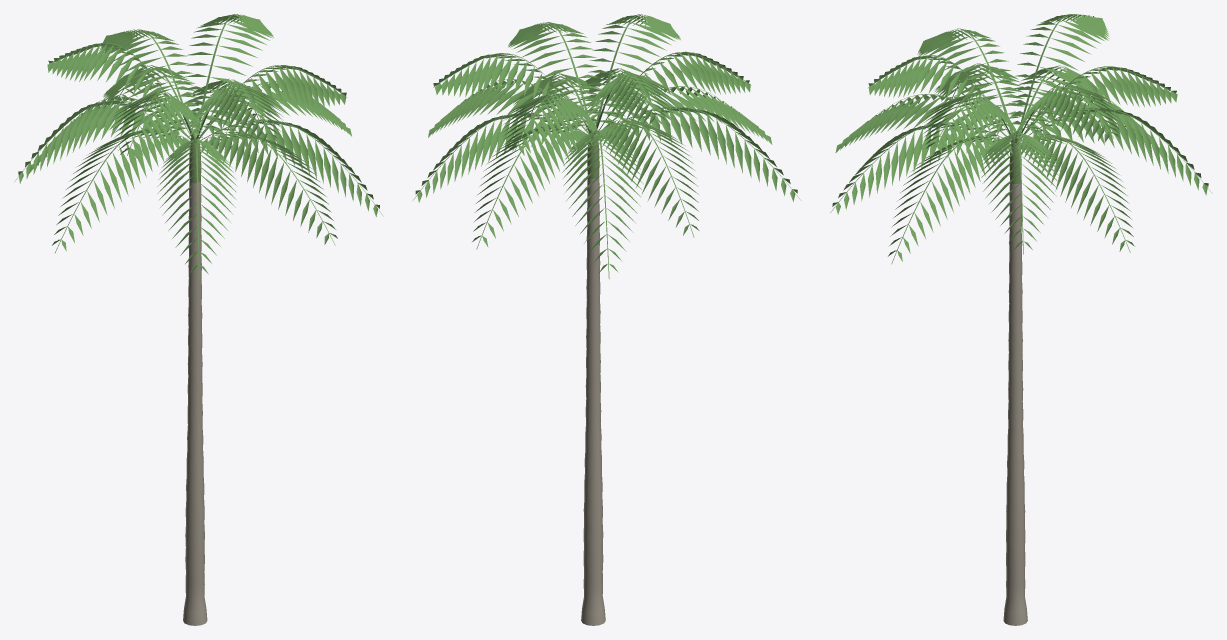
Rendered from palm_royal.glb.
The picture shows the model from 3 angles, left to right: view 1: azimuth 30°, elevation 25°; view 2: azimuth 150°, elevation 25°; view 3: azimuth 270°, elevation 25°; orthographic projection.
Visible parts, largest first — view 1: fronds, trunk; view 2: fronds, trunk; view 3: fronds, trunk.
Part boxes in pixels (box(x1,y1,x2,y2)): fronds: box(15, 14, 383, 278); trunk: box(183, 181, 207, 625); fronds: box(413, 14, 801, 279); trunk: box(581, 177, 605, 625); fronds: box(830, 14, 1212, 264); trunk: box(1003, 183, 1027, 625).
Size of the model in its own units: 9.42 by 15.55 by 9.4.
